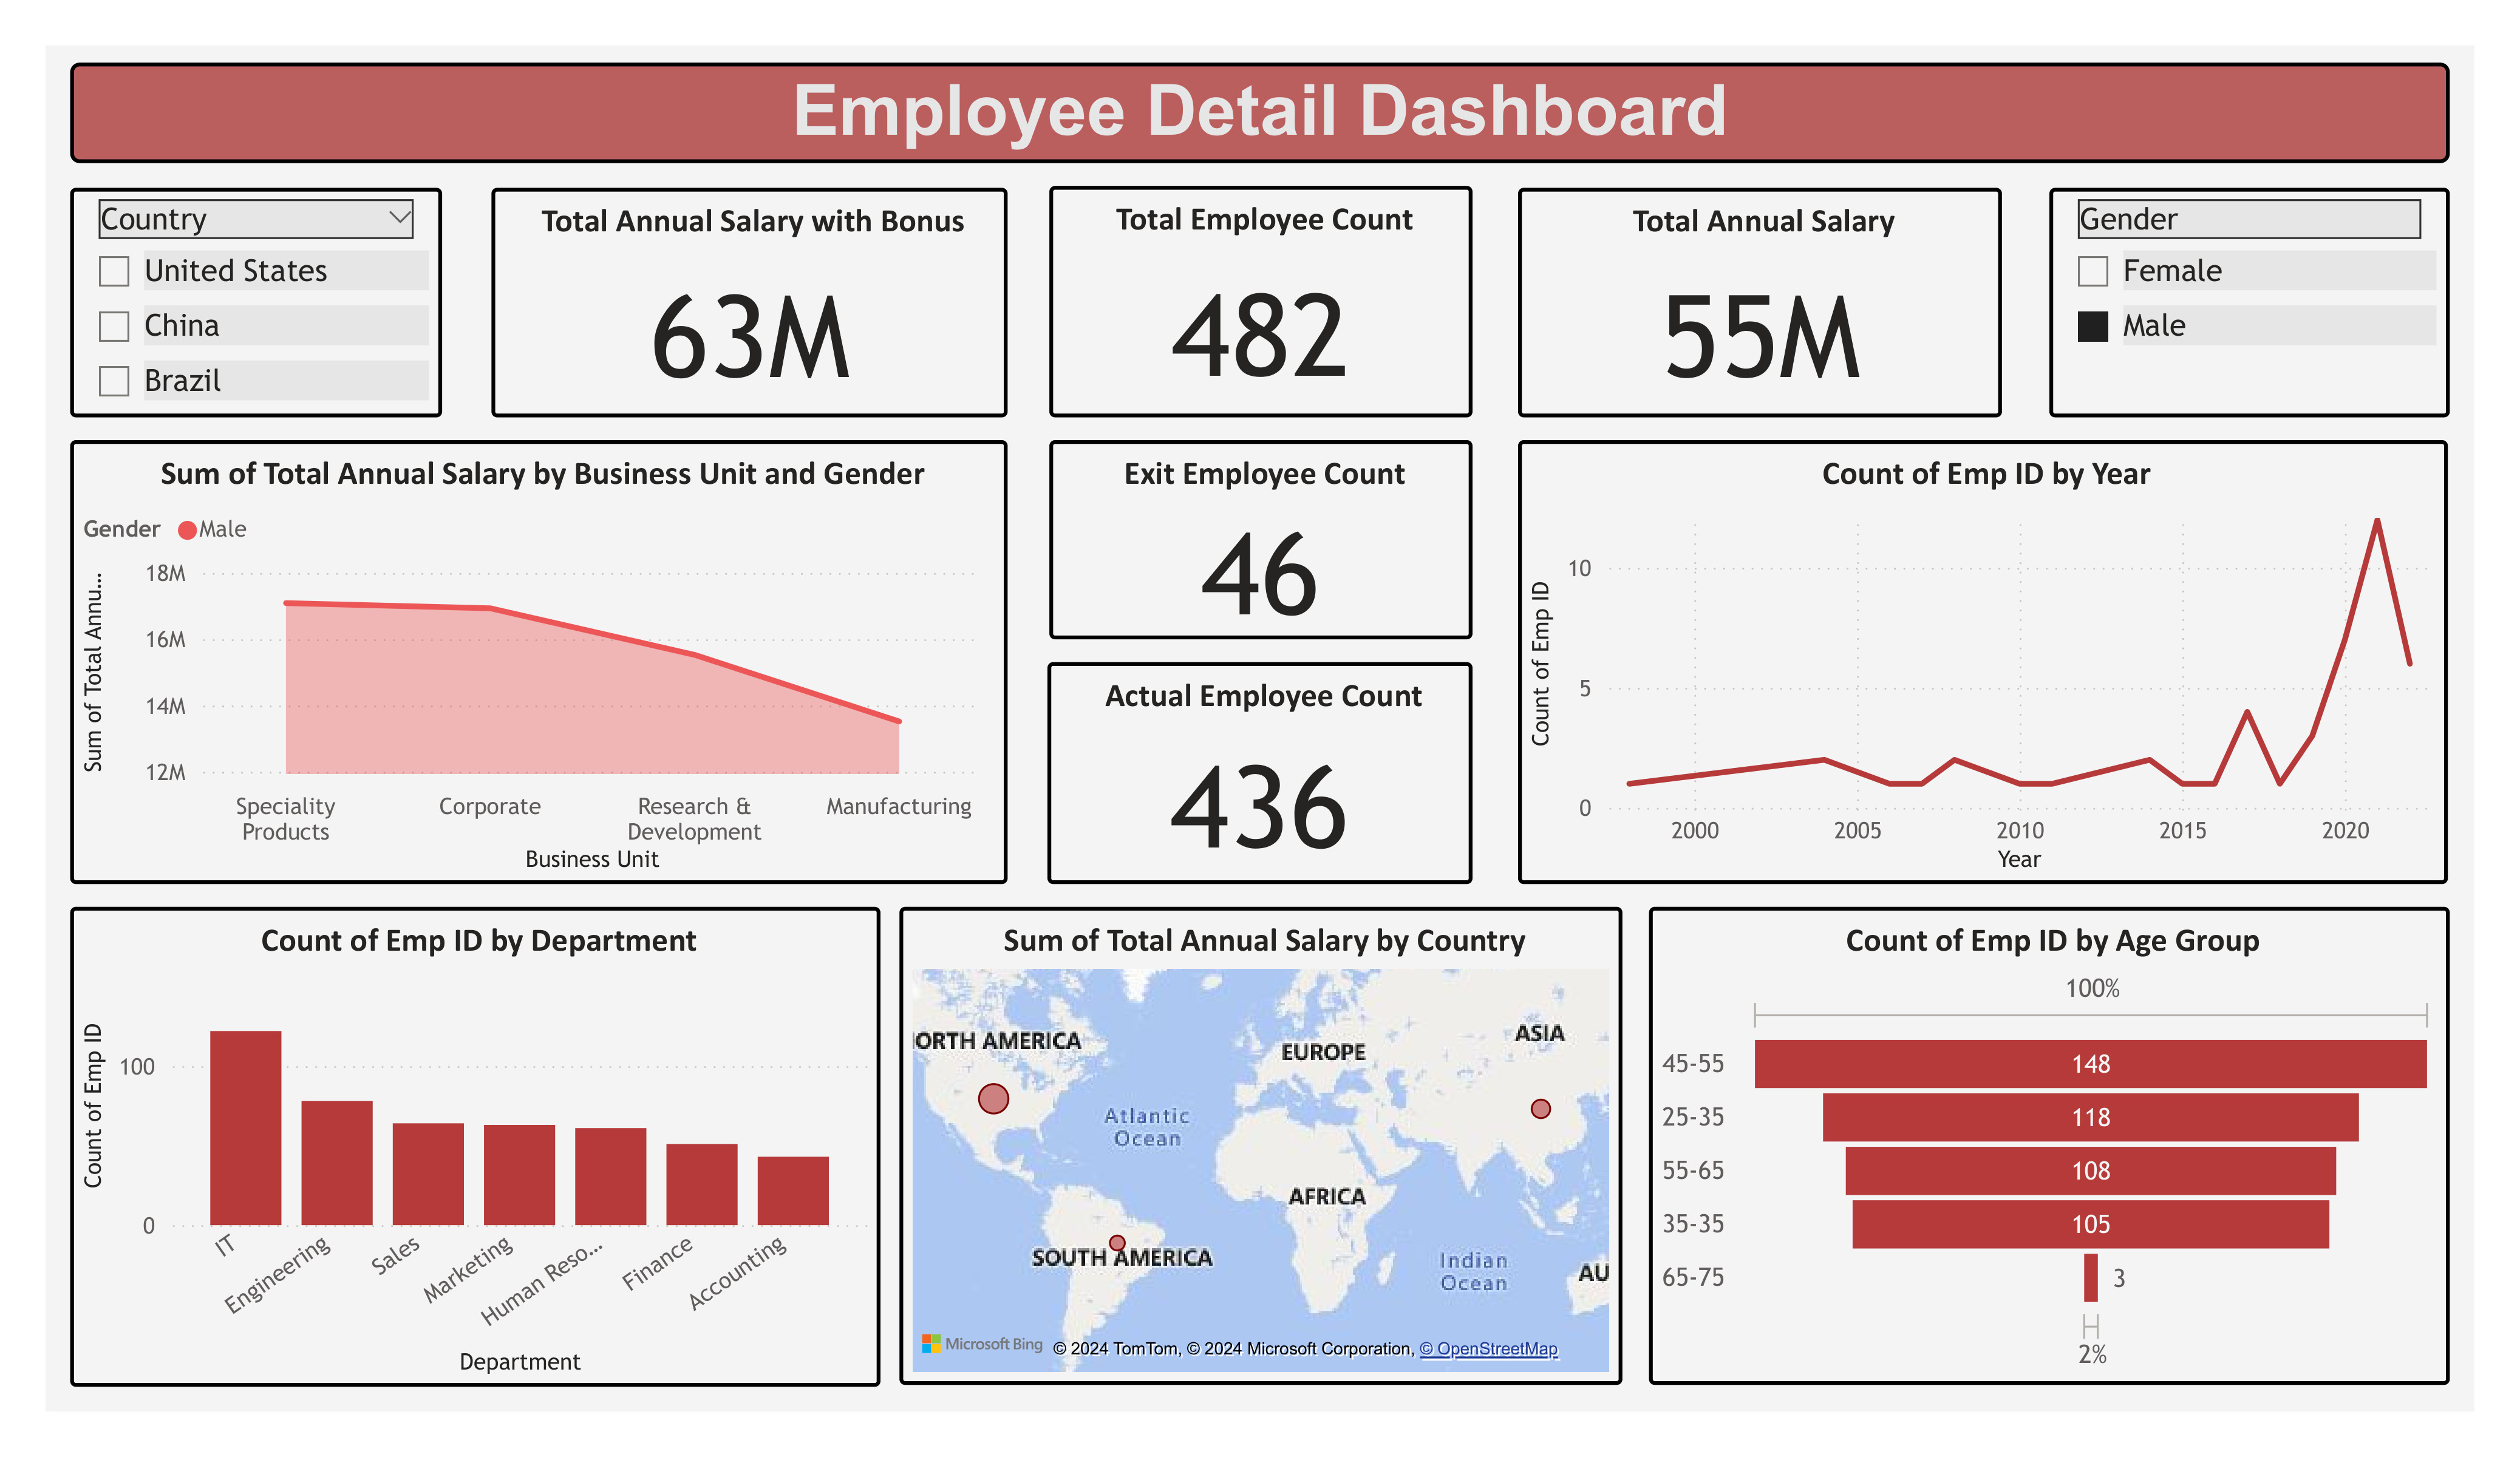

The dashboard page shown, as its layout file describes it:
{"tool":"powerbi","page":{"name":"Page 1","canvas":[1280,720],"ordinal":0},"visuals":[{"type":"textbox","box":[12.9,9.4,1254.1,52.9],"z":0},{"type":"card","title":"Total  Annual Salary with Bonus","fields":{"Values":["Sum(Sheet1.Total Annual Salary)"]},"box":[234.9,74.7,271.7,121],"z":1000},{"type":"card","title":"Total Employee Count","fields":{"Values":["CountNonNull(Sheet1.Emp ID.1)"]},"box":[529.2,73.6,223.1,122.2],"z":2000},{"type":"card","title":"Exit Employee Count","fields":{"Values":["CountNonNull(Sheet1.Exit Date)"]},"box":[529.4,208.2,222.4,104.7],"z":3000},{"type":"card","title":"Actual Employee Count","fields":{"Values":["Sum(Sheet1.Actual Exit)"]},"box":[528,325,224,117],"z":4000},{"type":"card","title":"Total Annual Salary","fields":{"Values":["Sum(Sheet1.Annual Salary)"]},"box":[776,74.7,255.1,121],"z":5000},{"type":"lineChart","fields":{"Y":["CountNonNull(Sheet1.Emp ID)"],"Category":["Sheet1.Exit Date.Variation.Date Hierarchy.Year"]},"box":[776.5,208.2,489.4,234.1],"z":6000},{"type":"columnChart","fields":{"Y":["CountNonNull(Sheet1.Emp ID)"],"Category":["Sheet1.Department"]},"box":[12.9,454.1,427.1,252.9],"z":7000},{"type":"map","fields":{"Category":["Sheet1.Country"],"Size":["Sum(Sheet1.Total Annual Salary)"]},"box":[450,453.6,381,252.4],"z":8000},{"type":"funnel","fields":{"Category":["Sheet1.Age Group"],"Y":["CountNonNull(Sheet1.Emp ID)"]},"box":[845.2,453.6,421.4,252.4],"z":9000},{"type":"areaChart","fields":{"Category":["Sheet1.Business Unit"],"Y":["Sum(Sheet1.Total Annual Salary)"],"Series":["Sheet1.Gender"]},"box":[12.9,208.2,494.1,234.1],"z":10000},{"type":"slicer","fields":{"Values":["Sheet1.Gender"]},"box":[1056,74.7,211.2,121],"z":11000},{"type":"slicer","fields":{"Values":["Sheet1.Country"]},"box":[12.9,75.3,196.5,121.2],"z":12000}]}

Visuals, with their boxes on the page's 1280x720 design canvas (x1, y1, x2, y2). These are canvas units, not pixel positions in the 2520x1457 screenshot, which may show the page scaled, cropped or inside an application window:
textbox: detection(13, 9, 1267, 62)
"Total  Annual Salary with Bonus" card: detection(235, 75, 507, 196)
"Total Employee Count" card: detection(529, 74, 752, 196)
"Exit Employee Count" card: detection(529, 208, 752, 313)
"Actual Employee Count" card: detection(528, 325, 752, 442)
"Total Annual Salary" card: detection(776, 75, 1031, 196)
lineChart - CountNonNull(Sheet1.Emp ID) x Sheet1.Exit Date.Variation.Date Hierarchy.Year: detection(776, 208, 1266, 442)
columnChart - CountNonNull(Sheet1.Emp ID) x Sheet1.Department: detection(13, 454, 440, 707)
map - Sheet1.Country x Sum(Sheet1.Total Annual Salary): detection(450, 454, 831, 706)
funnel - Sheet1.Age Group x CountNonNull(Sheet1.Emp ID): detection(845, 454, 1267, 706)
areaChart - Sheet1.Business Unit x Sum(Sheet1.Total Annual Salary): detection(13, 208, 507, 442)
slicer - Sheet1.Gender: detection(1056, 75, 1267, 196)
slicer - Sheet1.Country: detection(13, 75, 209, 196)
